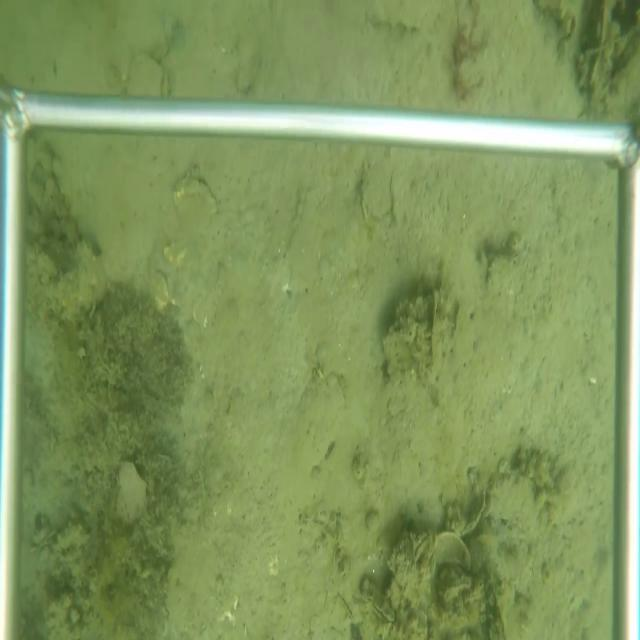Oyster-Closed: (112, 456, 150, 525), (127, 52, 175, 99), (360, 588, 395, 627), (438, 576, 474, 606)
Oyster-Indeterminate: (293, 371, 345, 479), (108, 7, 169, 87), (486, 471, 544, 536), (360, 153, 398, 225)
Oyster-Open: (412, 530, 434, 568)
